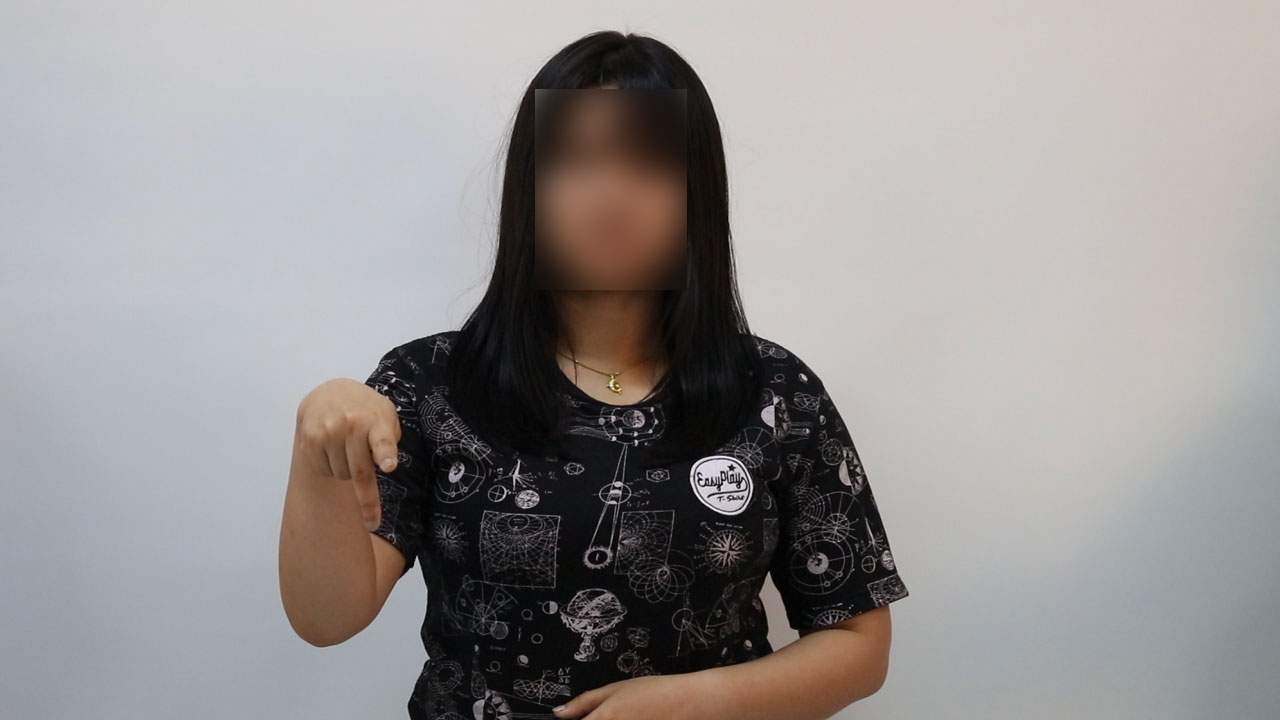por: (282, 359, 419, 541)
